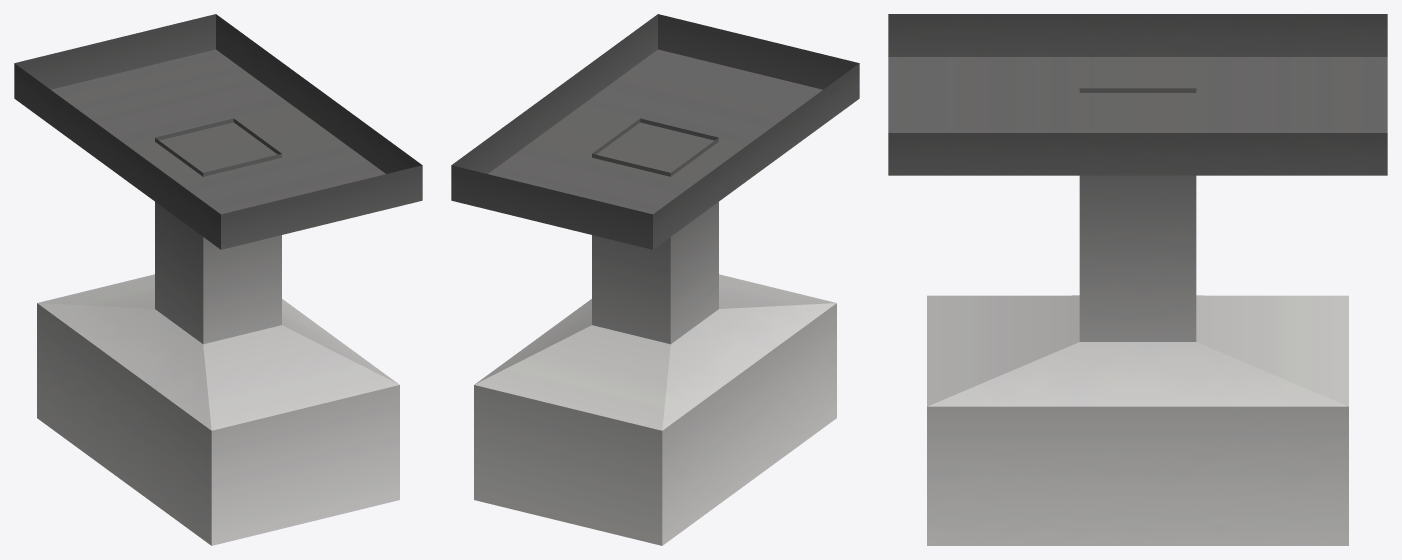
File: Projector_CeilingMount.fbx
3 renders of one model, left to right at view 1: azimuth 30°, elevation 25°; view 2: azimuth 150°, elevation 25°; view 3: azimuth 270°, elevation 25°, orthographic. The views are drawn at different scales.
Visible parts, largest first — view 1: Projector_CeilingMount; view 2: Projector_CeilingMount; view 3: Projector_CeilingMount.
Part boxes in pixels (x1,y1,x2,y2): Projector_CeilingMount: (14,14,422,545); Projector_CeilingMount: (451,14,859,545); Projector_CeilingMount: (888,14,1387,545).
Size of the model in its own units: 10.54 by 17.23 by 18.71.
